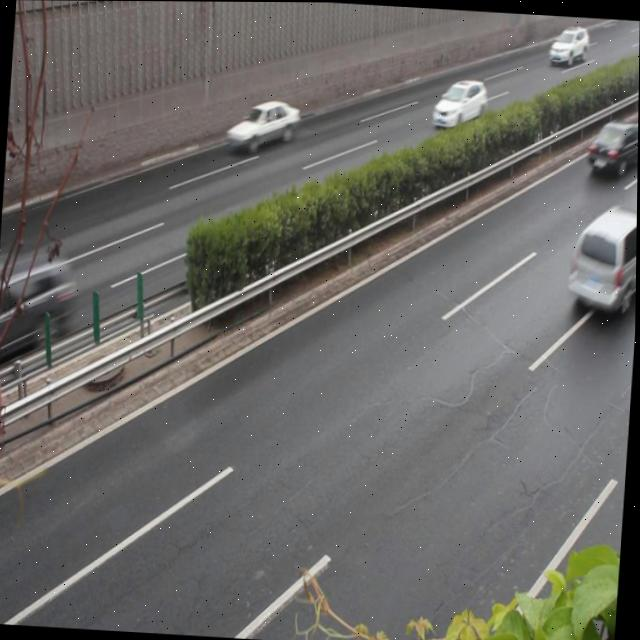car: (569, 198, 638, 315), (0, 254, 76, 360), (226, 95, 301, 154), (585, 114, 639, 181), (431, 75, 487, 131)
